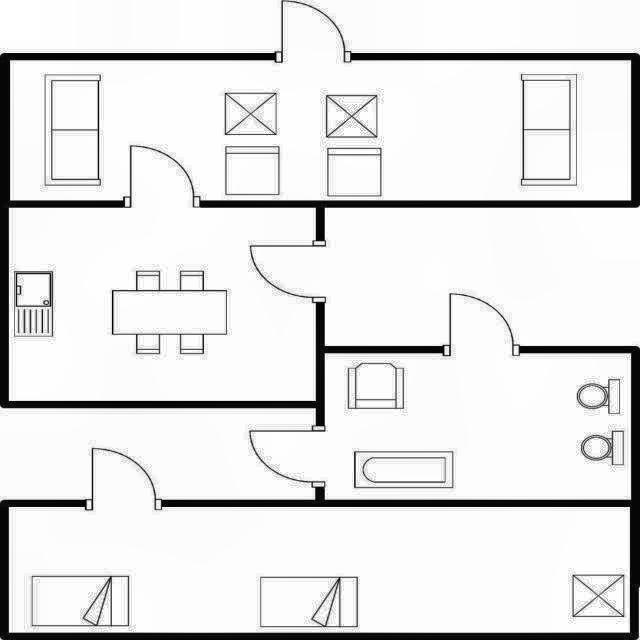room: (10, 60, 631, 200), (9, 507, 630, 633), (8, 208, 316, 401), (324, 352, 631, 500)
